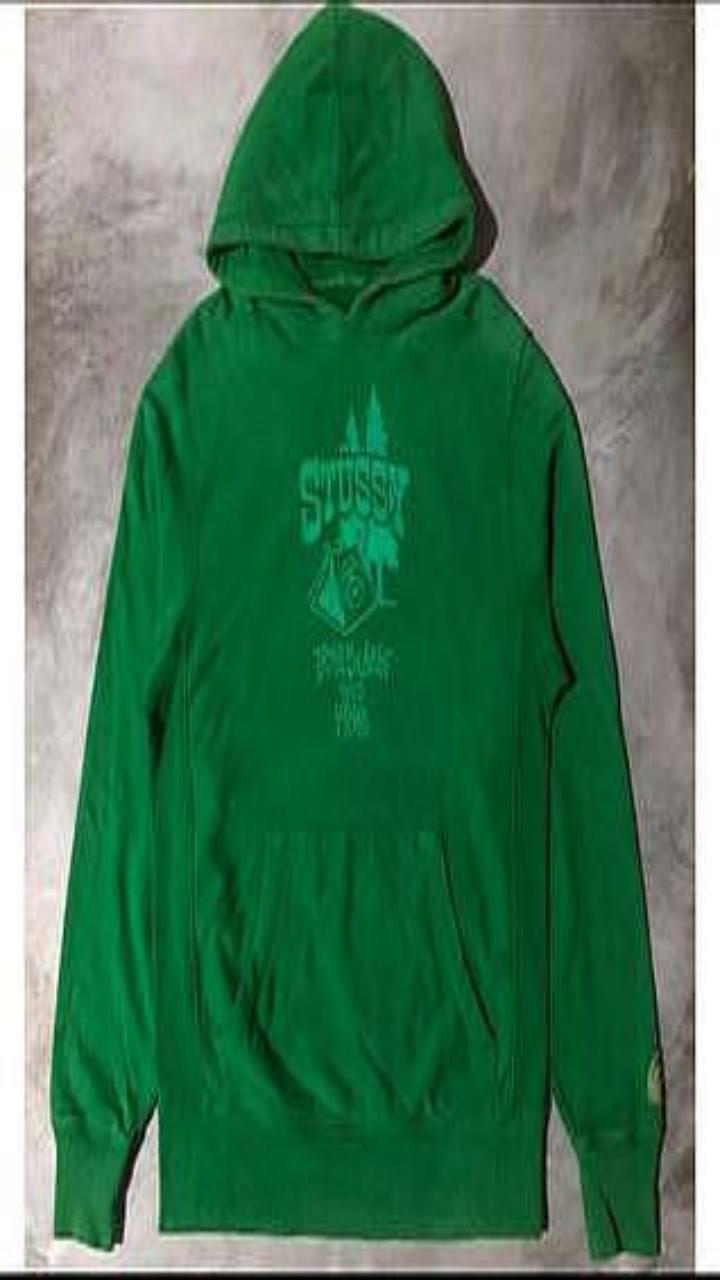Hoodie: (52, 6, 663, 1257)
